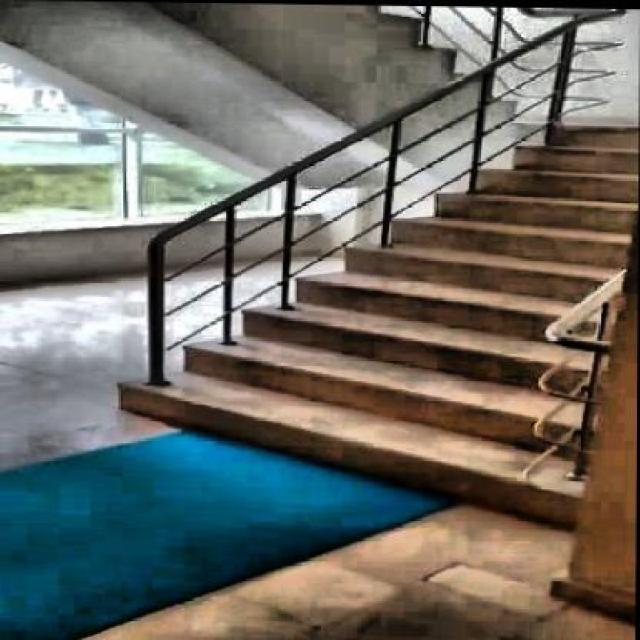stair: (99, 63, 638, 546)
